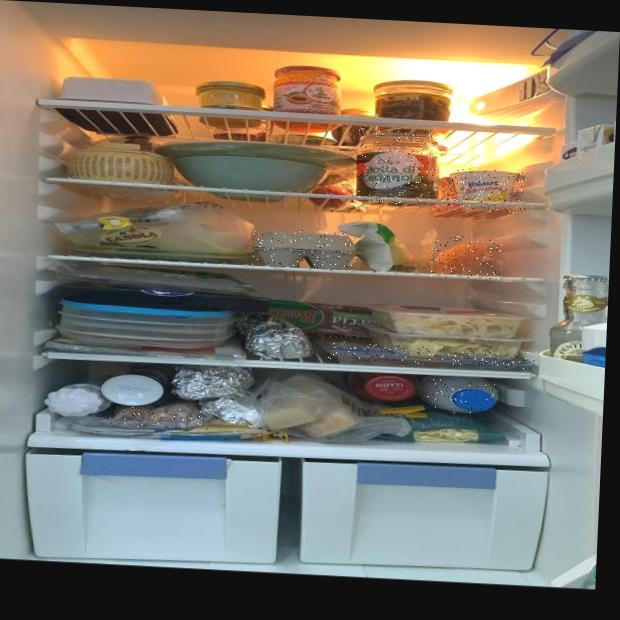carrots: (431, 235, 504, 280)
eggs: (252, 228, 361, 270)
ham: (326, 341, 535, 370), (110, 406, 213, 431)
milk: (427, 379, 502, 416)
olive: (355, 129, 438, 207)
yoghurt: (441, 168, 526, 214)
